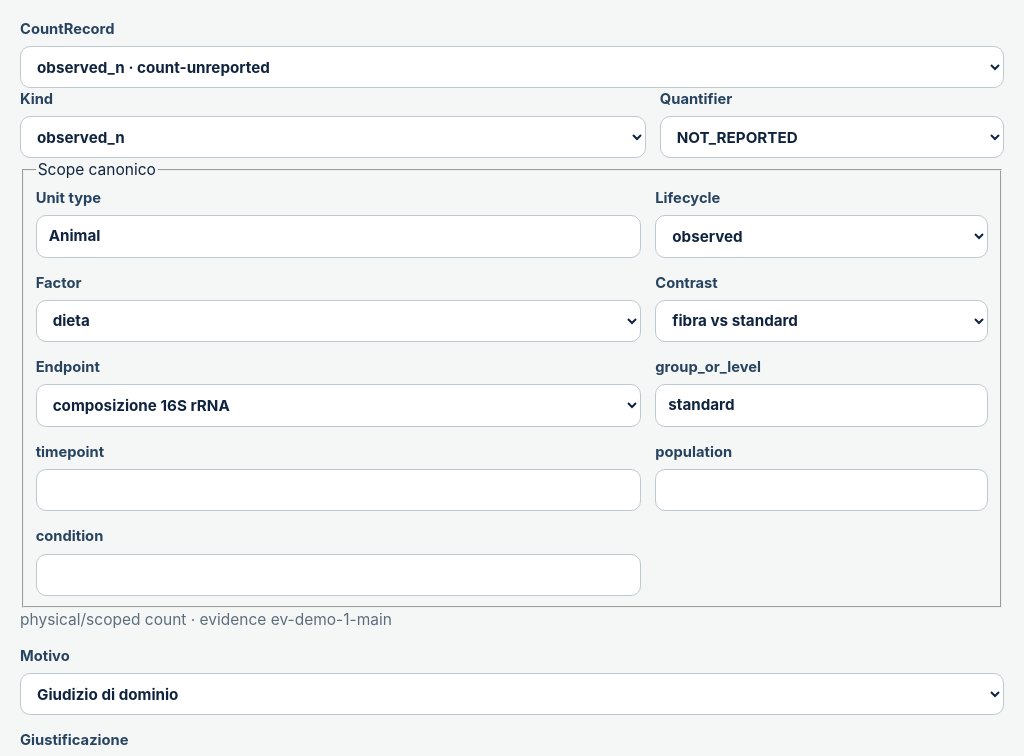
Test: CanonicalCorrectionForm › never invents zero when a missing count becomes numeric
Select "EXACT" in the dropdown named "Count quantifier": (832, 137) top-left (660, 116), bottom-right (1004, 158)
(page scrolled)
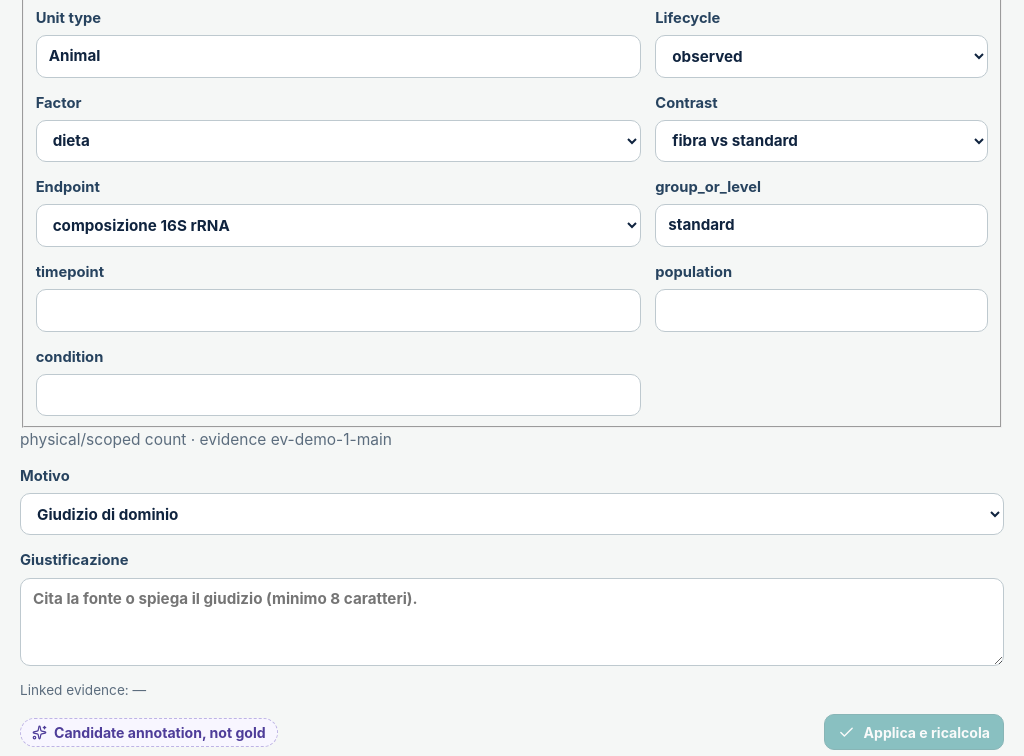
In the text box with placeholder "Cita la fonte o spiega il giudizio (minimo 8 caratteri).": (512, 622) top-left (20, 578), bottom-right (1004, 666), type "Conteggio verificato nella fonte primaria."
(page scrolled)
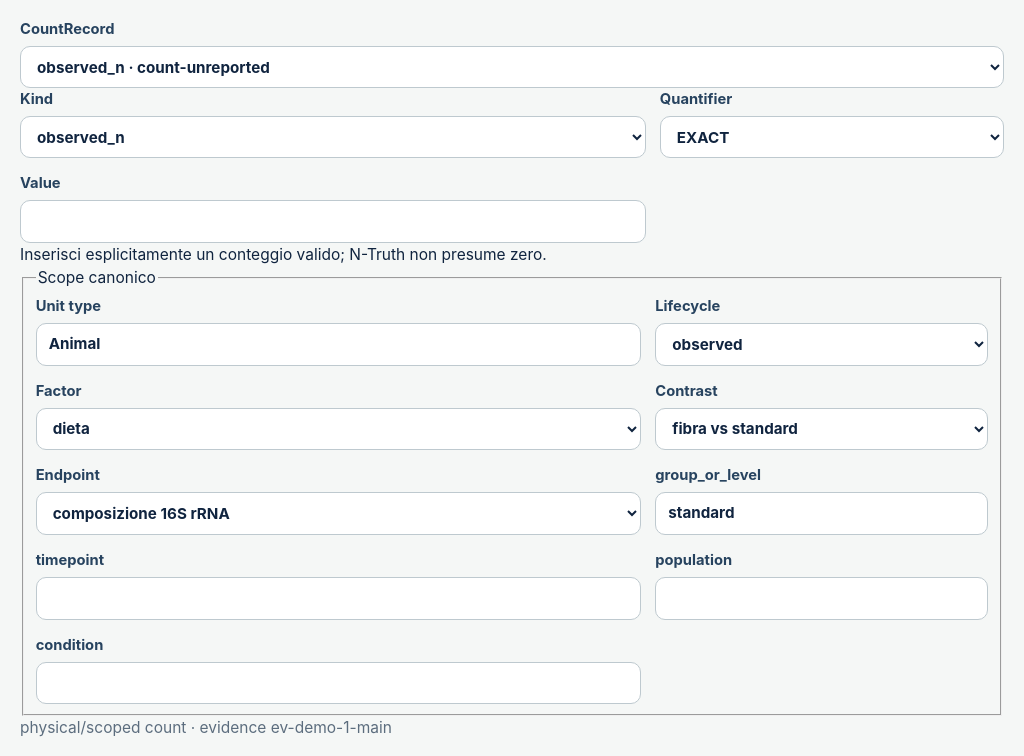
In the number field named "Count value": (333, 222) top-left (20, 200), bottom-right (646, 243), type "0"
(page scrolled)
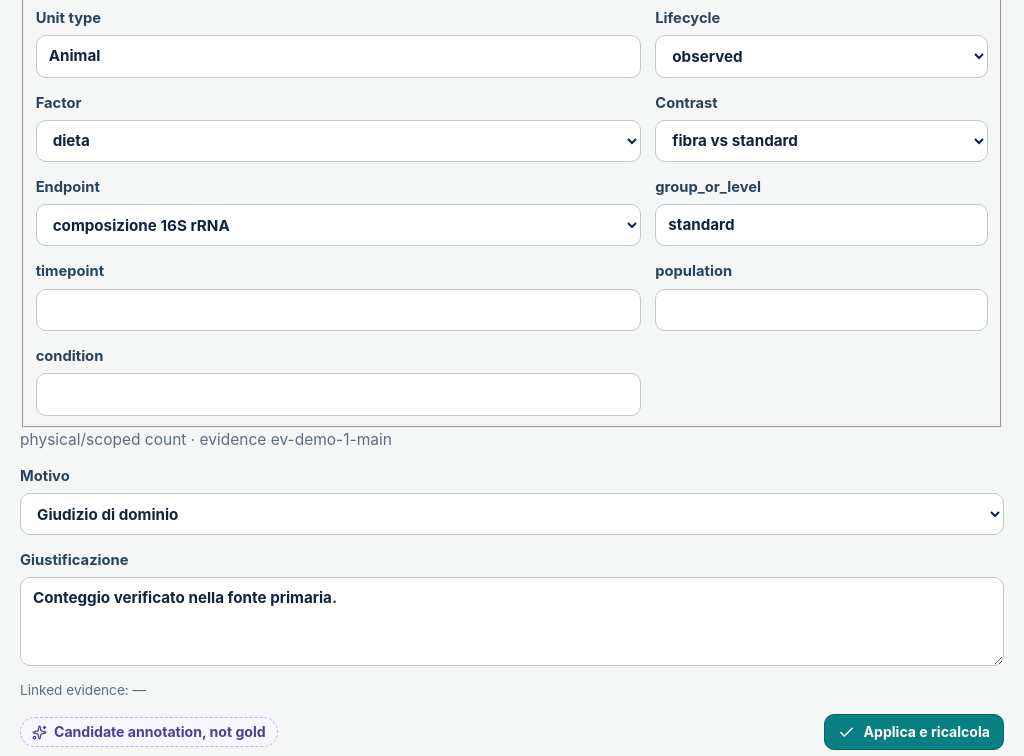
Result: the button "Applica e ricalcola" is enabled at top-left (824, 714), bottom-right (1004, 750)
